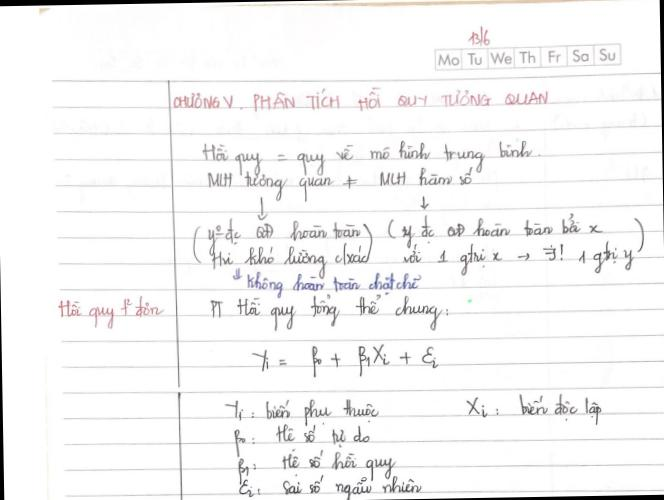text: (201, 136, 543, 178), (172, 82, 550, 114), (206, 164, 476, 204), (208, 291, 450, 335), (401, 241, 636, 278), (400, 209, 605, 249), (250, 341, 441, 381), (210, 240, 370, 281), (206, 214, 362, 256), (235, 446, 398, 485), (236, 470, 423, 500), (464, 390, 604, 429), (245, 270, 423, 300), (232, 422, 372, 458), (222, 397, 380, 427), (56, 294, 166, 332), (435, 46, 618, 68), (465, 26, 492, 47)
